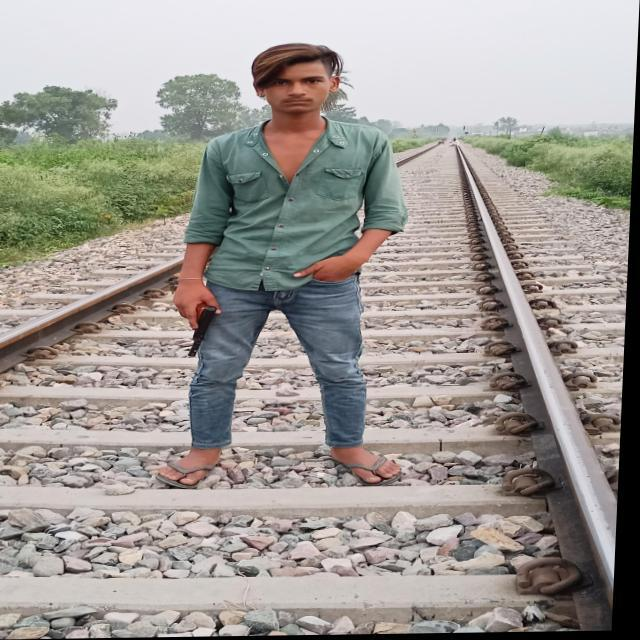weapon: (176, 298, 223, 359)
